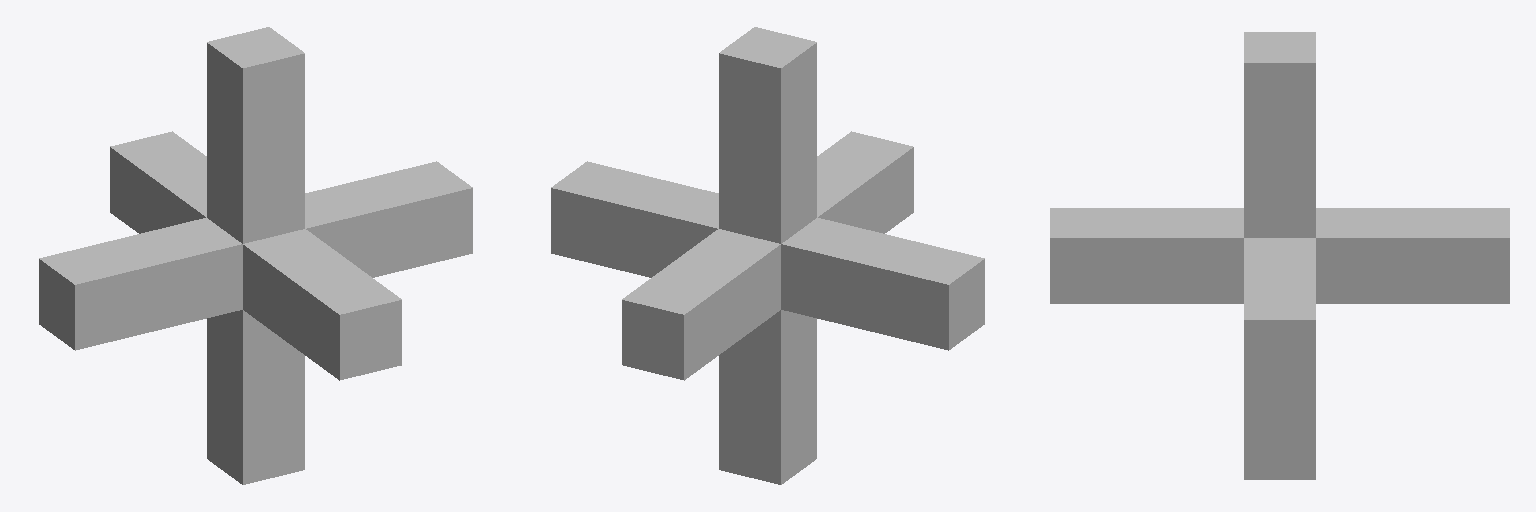
Rendered from aluminumWire.obj.
The picture shows the model from 3 angles: view 1: azimuth 30°, elevation 25°; view 2: azimuth 150°, elevation 25°; view 3: azimuth 270°, elevation 25°; orthographic projection.
Visible parts, largest first — view 1: Top, Right, Front, Bottom, Left, Back; view 2: Top, Right, Back, Bottom, Left, Front; view 3: Back, Front, Top, Left, Bottom.
Boxes of the visible parts, x1=… form: Top: x1=207, y1=27, x2=304, y2=243; Right: x1=39, y1=218, x2=242, y2=350; Front: x1=243, y1=229, x2=401, y2=380; Bottom: x1=207, y1=310, x2=304, y2=484; Left: x1=305, y1=161, x2=472, y2=277; Back: x1=110, y1=131, x2=206, y2=233; Top: x1=719, y1=27, x2=816, y2=243; Right: x1=781, y1=218, x2=984, y2=350; Back: x1=622, y1=229, x2=780, y2=380; Bottom: x1=719, y1=310, x2=816, y2=484; Left: x1=551, y1=161, x2=718, y2=277; Front: x1=817, y1=131, x2=913, y2=233; Back: x1=1316, y1=208, x2=1509, y2=303; Front: x1=1050, y1=208, x2=1243, y2=303; Top: x1=1244, y1=32, x2=1315, y2=237; Left: x1=1244, y1=238, x2=1315, y2=385; Bottom: x1=1244, y1=386, x2=1315, y2=479.
Size of the model in its own units: 1.02 by 1.02 by 1.02.